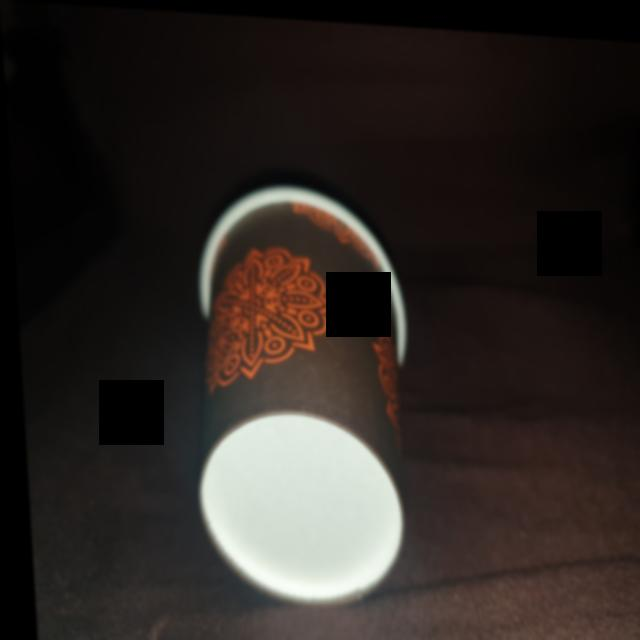cups: (167, 171, 420, 618)
